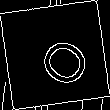O_NW: (21, 22, 89, 88)
